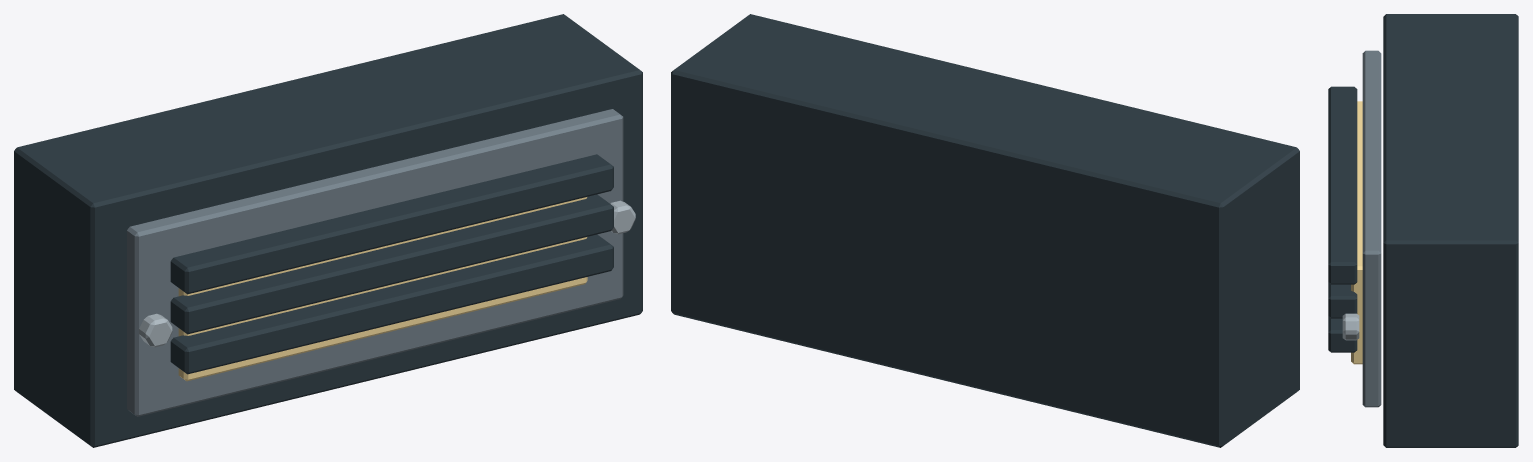
File: b18_recessed_brick_step_light.glb
3 renders of one model, left to right at view 1: azimuth 30°, elevation 25°; view 2: azimuth 150°, elevation 25°; view 3: azimuth 270°, elevation 25°, orthographic. The views are drawn at different scales.
Visible parts, largest first — view 1: b18_recessed_brick_step_light; view 2: b18_recessed_brick_step_light; view 3: b18_recessed_brick_step_light.
Part boxes in pixels (x1,y1,x2,y2): b18_recessed_brick_step_light: (14, 14, 642, 447); b18_recessed_brick_step_light: (671, 14, 1299, 447); b18_recessed_brick_step_light: (1328, 14, 1518, 447).
Bounding box in the file's own units: 0.26 × 0.11 × 0.0915.
